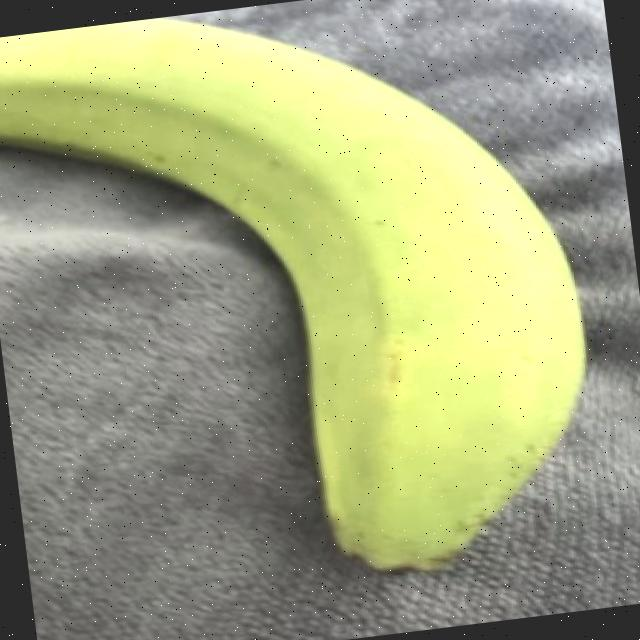Unripe: (0, 0, 622, 621)
